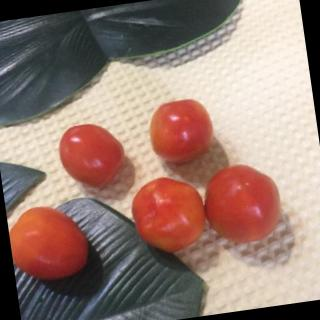Tomat: (197, 152, 294, 261), (6, 193, 96, 295), (138, 86, 229, 175), (126, 172, 214, 264), (48, 112, 134, 195)
